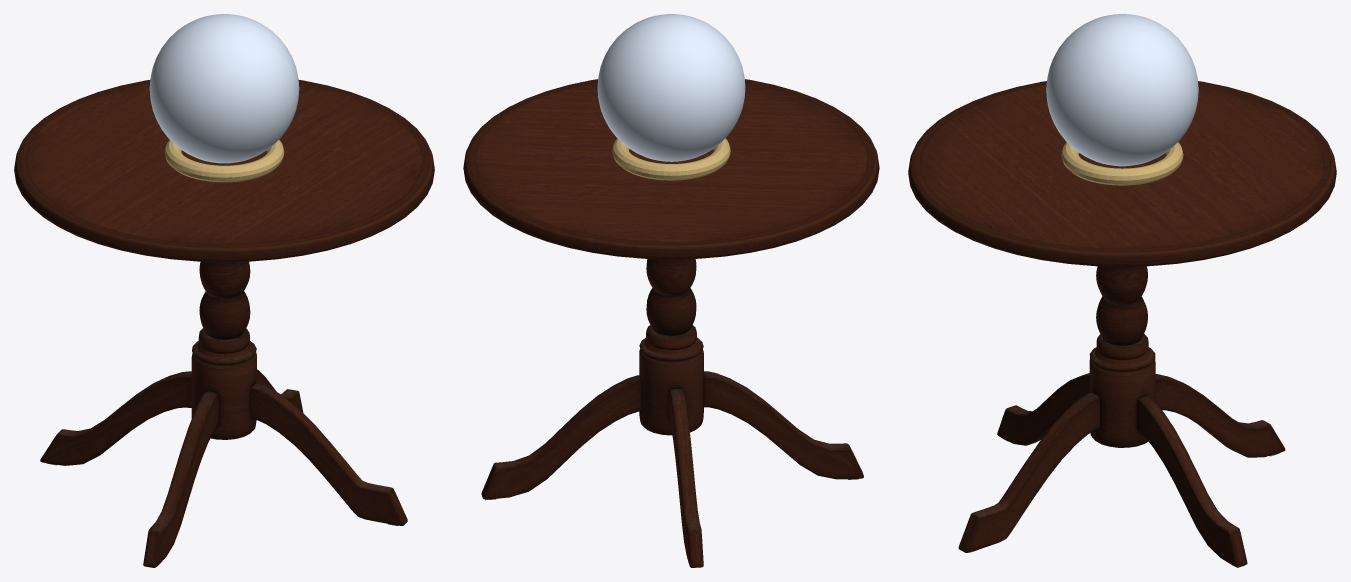
File: crystal_table.glb
The picture shows the model from 3 angles, left to right: view 1: azimuth 30°, elevation 25°; view 2: azimuth 150°, elevation 25°; view 3: azimuth 270°, elevation 25°; orthographic projection. The views are drawn at different scales.
Parts seen in each view (by area): view 1: crystal_table, crystal_ball, cradle; view 2: crystal_table, crystal_ball, cradle; view 3: crystal_table, crystal_ball, cradle.
Part boxes in pixels (x1=…): crystal_table: x1=14, y1=80, x2=434, y2=567; crystal_ball: x1=149, y1=14, x2=299, y2=163; cradle: x1=164, y1=140, x2=284, y2=182; crystal_table: x1=463, y1=79, x2=879, y2=567; crystal_ball: x1=597, y1=14, x2=745, y2=161; cradle: x1=612, y1=138, x2=730, y2=180; crystal_table: x1=908, y1=81, x2=1336, y2=567; crystal_ball: x1=1046, y1=14, x2=1198, y2=166; cradle: x1=1061, y1=142, x2=1183, y2=185.
Size of the model in its own units: 0.8998 by 1.11 by 0.8998.
3 materials, 1 textured.
